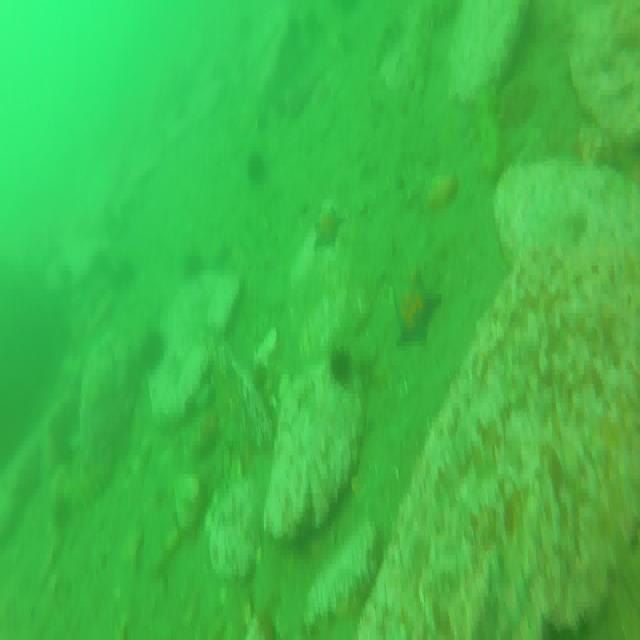echinus: (136, 323, 164, 370), (248, 150, 269, 185), (332, 343, 351, 381), (183, 250, 203, 278)
starfish: (394, 272, 442, 346), (315, 204, 341, 252)
